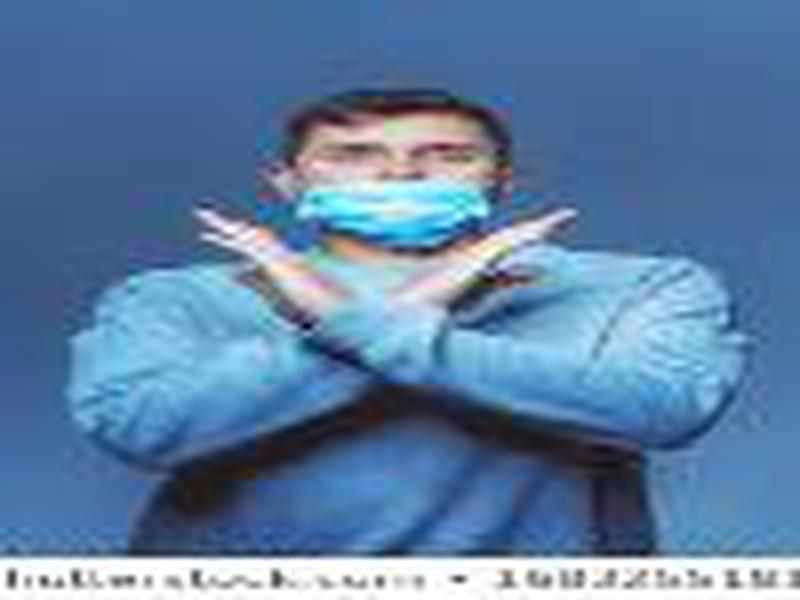with_mask: (289, 114, 505, 256)
